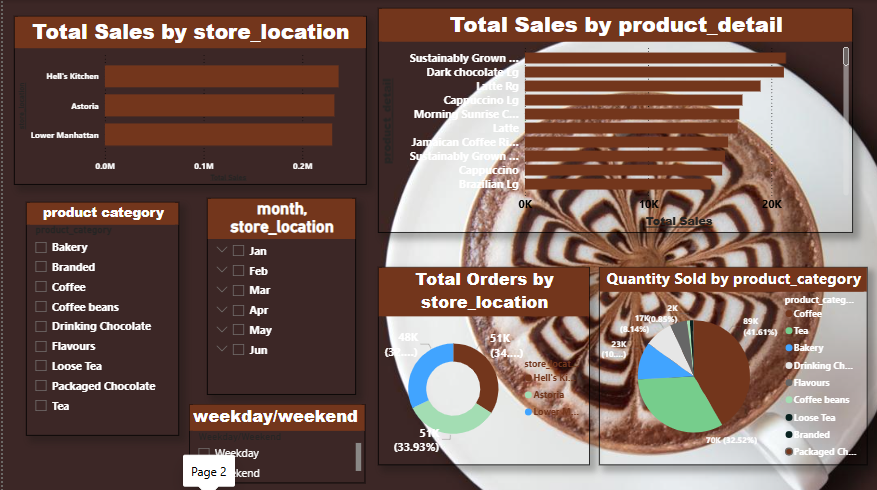

Layout of this report page (visuals, bound fields, positions):
{"tool":"powerbi","page":{"name":"Page 2","canvas":[1280,720],"ordinal":1},"visuals":[{"type":"barChart","fields":{"Category":["Transactions.store_location"],"Y":["Transactions.Total Sales"]},"box":[16,23.9,515.5,247.4],"z":0},{"type":"barChart","fields":{"Category":["Transactions.product_detail"],"Y":["Transactions.Total Sales"]},"box":[548.8,11.7,695.1,329.3],"z":1000},{"type":"slicer","title":"month, store_location","fields":{"Values":["Transactions.month","Transactions.store_location"]},"box":[298.5,290.1,217.5,288.4],"z":2000},{"type":"slicer","title":"product category","fields":{"Values":["Transactions.product_category"]},"box":[33.7,295.1,224.3,342.3],"z":3000},{"type":"pieChart","fields":{"Category":["Transactions.product_category"],"Y":["Transactions.Quantity Sold"]},"box":[871.9,391.3,392.9,290.1],"z":4000},{"type":"slicer","title":"weekday/weekend","fields":{"Values":["Transactions.Weekday/Weekend"]},"box":[271.5,591.9,258,116.4],"z":5000},{"type":"donutChart","fields":{"Category":["Transactions.store_location"],"Y":["Transactions.Total Orders"]},"box":[548.1,391.3,310.3,290.1],"z":6000}]}

Visuals, with their boxes in screenshot pixels (x1, y1, x2, y2), scaled from the page's 1280x720 canvas onto the 877x490 screenshot:
barChart - Transactions.store_location x Transactions.Total Sales: <region>11, 16, 364, 185</region>
barChart - Transactions.product_detail x Transactions.Total Sales: <region>376, 8, 852, 232</region>
"month, store_location" slicer: <region>205, 197, 354, 394</region>
"product category" slicer: <region>23, 201, 177, 434</region>
pieChart - Transactions.product_category x Transactions.Quantity Sold: <region>597, 266, 867, 464</region>
"weekday/weekend" slicer: <region>186, 403, 363, 482</region>
donutChart - Transactions.store_location x Transactions.Total Orders: <region>376, 266, 588, 464</region>
